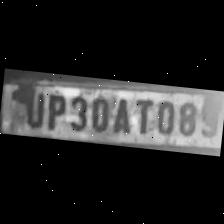0: (151, 95, 179, 134), (86, 91, 112, 132)
3: (64, 90, 90, 131)
8: (174, 98, 200, 136)
A: (107, 93, 135, 134)
P: (42, 88, 68, 130)
T: (130, 93, 154, 134)
U: (20, 86, 46, 127)
